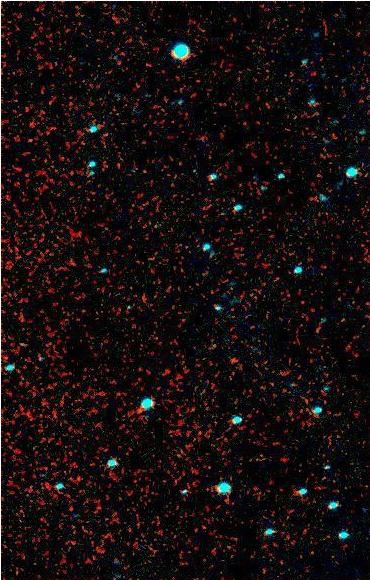star: (221, 349, 251, 379)
